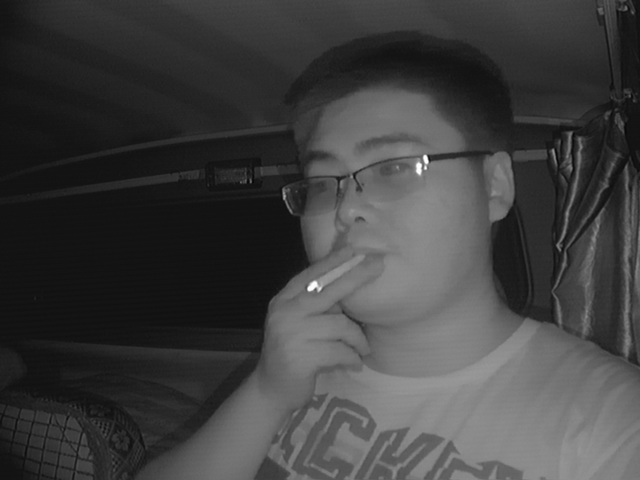hand: (272, 239, 393, 369)
